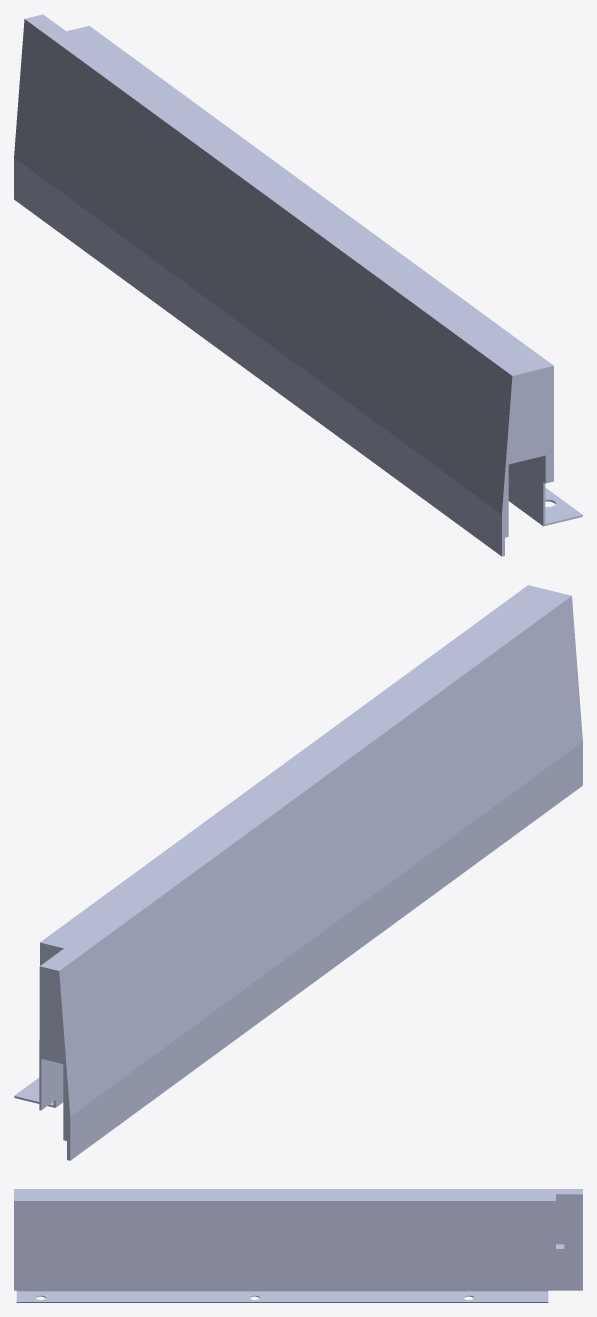
Rendered from mv-kava-N350-p.glb.
3 views of the same model, one above another, from view 1: azimuth 30°, elevation 25°; view 2: azimuth 150°, elevation 25°; view 3: azimuth 270°, elevation 25° (orthographic). The views are drawn at different scales.
Visible parts, largest first — view 1: 43275697; view 2: 43275697; view 3: 43275697.
Boxes of the visible parts, x1,y1,x2,y2 form: 43275697: (14,14,582,556); 43275697: (14,585,582,1160); 43275697: (14,1189,582,1302).
Bounding box in the file's own units: 0.0335 × 0.0685 × 0.3402.
